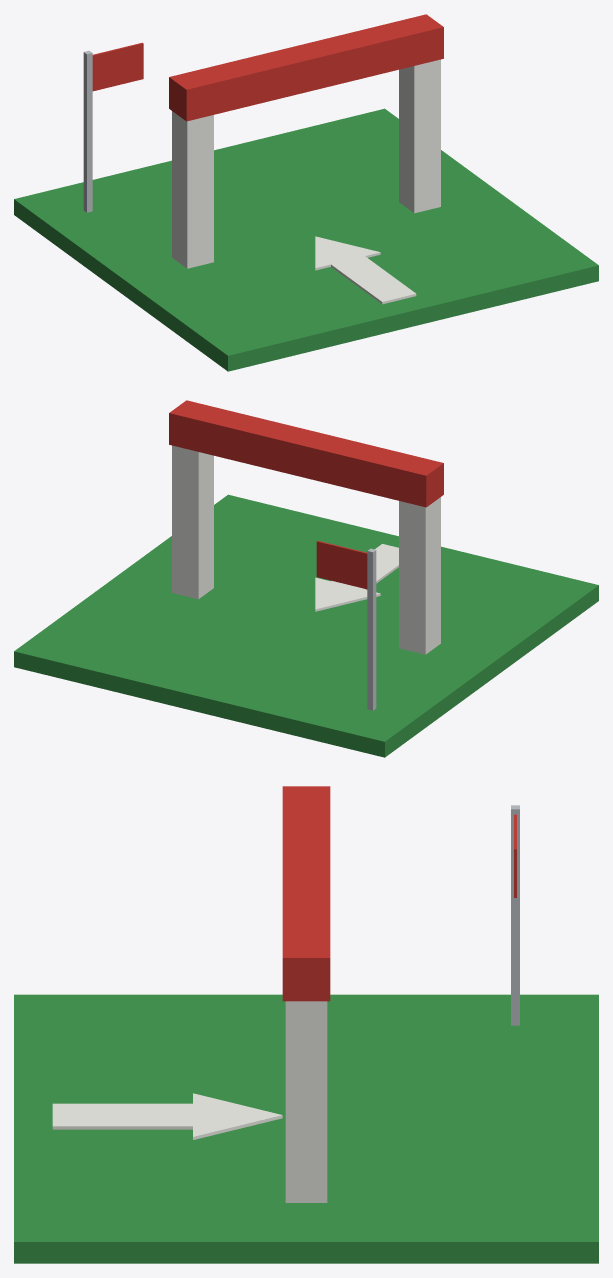
The model's file is start.glb.
The picture shows the model from 3 angles, top to bottom: view 1: azimuth 30°, elevation 25°; view 2: azimuth 150°, elevation 25°; view 3: azimuth 270°, elevation 25°; orthographic projection. The views are drawn at different scales.
Parts seen in each view (by area): view 1: start; view 2: start; view 3: start.
Part boxes in pixels (x1,y1,x2,y2): start: (14,14,598,371); start: (14,400,598,757); start: (14,786,598,1263).
Bounding box in the file's own units: 1.96 × 0.99 × 1.96.
